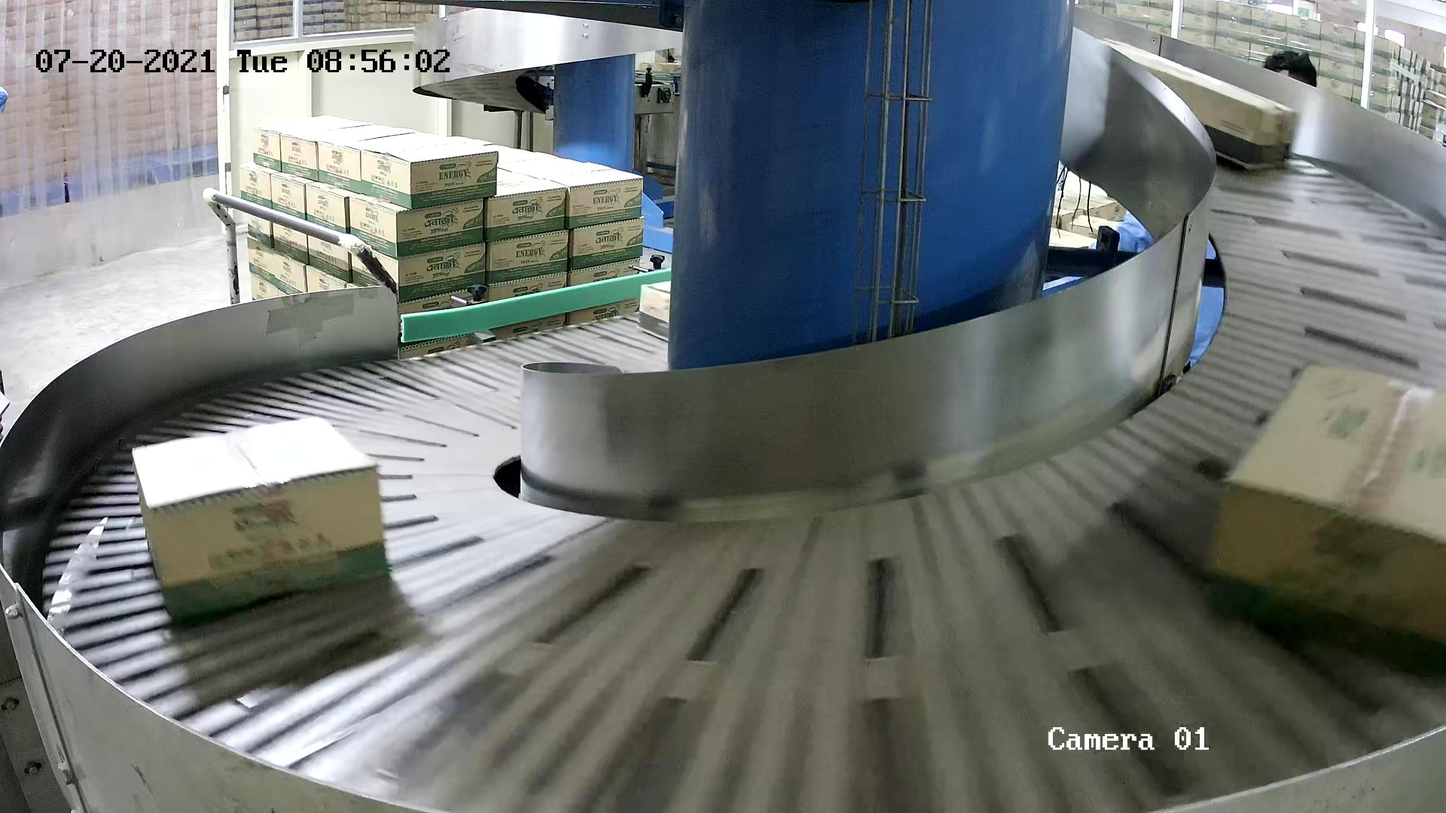Box: (1198, 359, 1446, 678), (131, 415, 394, 629), (1091, 36, 1301, 170), (637, 280, 671, 343)
